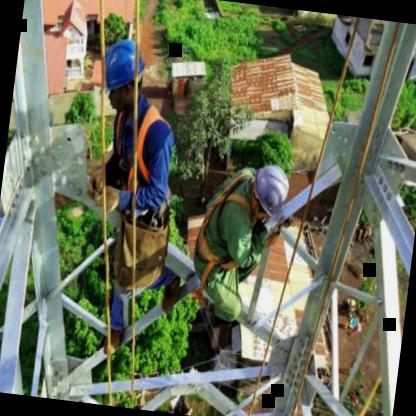helmet: (96, 32, 148, 120), (244, 155, 292, 226)
